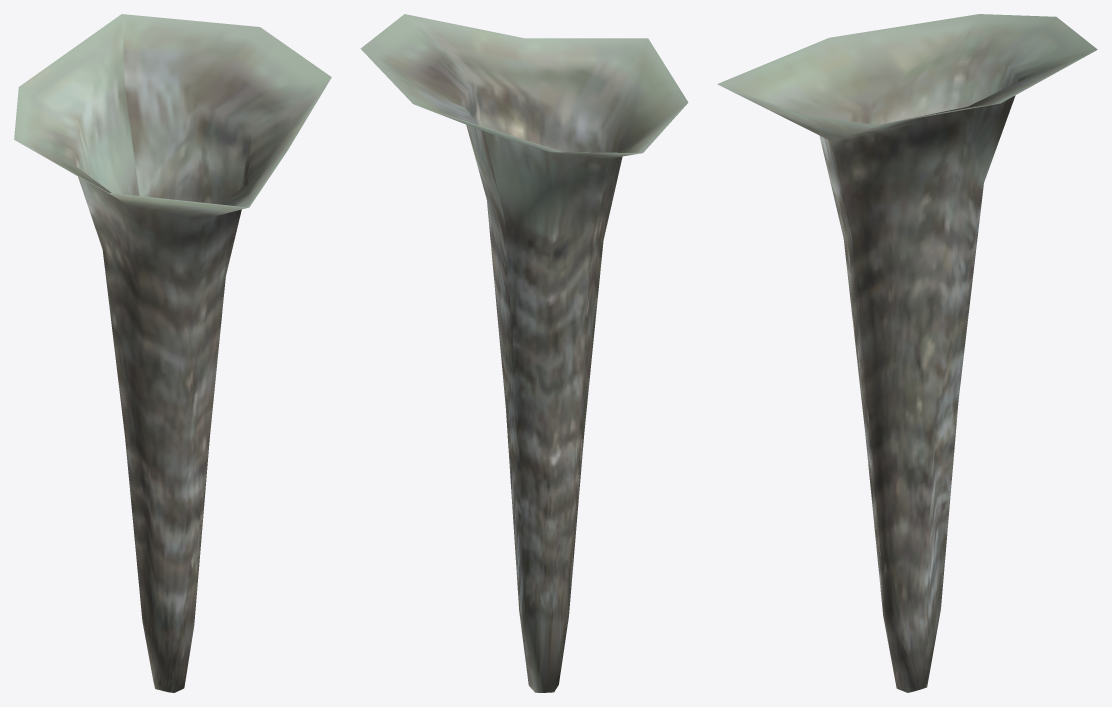
Rendered from TROLLHOLE02_PS-MAINSTALAG67.fbx.
3 renders of one model, left to right at view 1: azimuth 30°, elevation 25°; view 2: azimuth 150°, elevation 25°; view 3: azimuth 270°, elevation 25°, orthographic. The views are drawn at different scales.
Visible parts, largest first — view 1: TROLLHOLE02_PS-MAINSTALAG67; view 2: TROLLHOLE02_PS-MAINSTALAG67; view 3: TROLLHOLE02_PS-MAINSTALAG67.
Part boxes in pixels (bbox=[...]): TROLLHOLE02_PS-MAINSTALAG67: bbox=[14, 14, 331, 692]; TROLLHOLE02_PS-MAINSTALAG67: bbox=[360, 14, 688, 692]; TROLLHOLE02_PS-MAINSTALAG67: bbox=[717, 14, 1097, 692].
Bounding box in the file's own units: 19402 × 41509 × 21624.
1 material, 1 textured.
